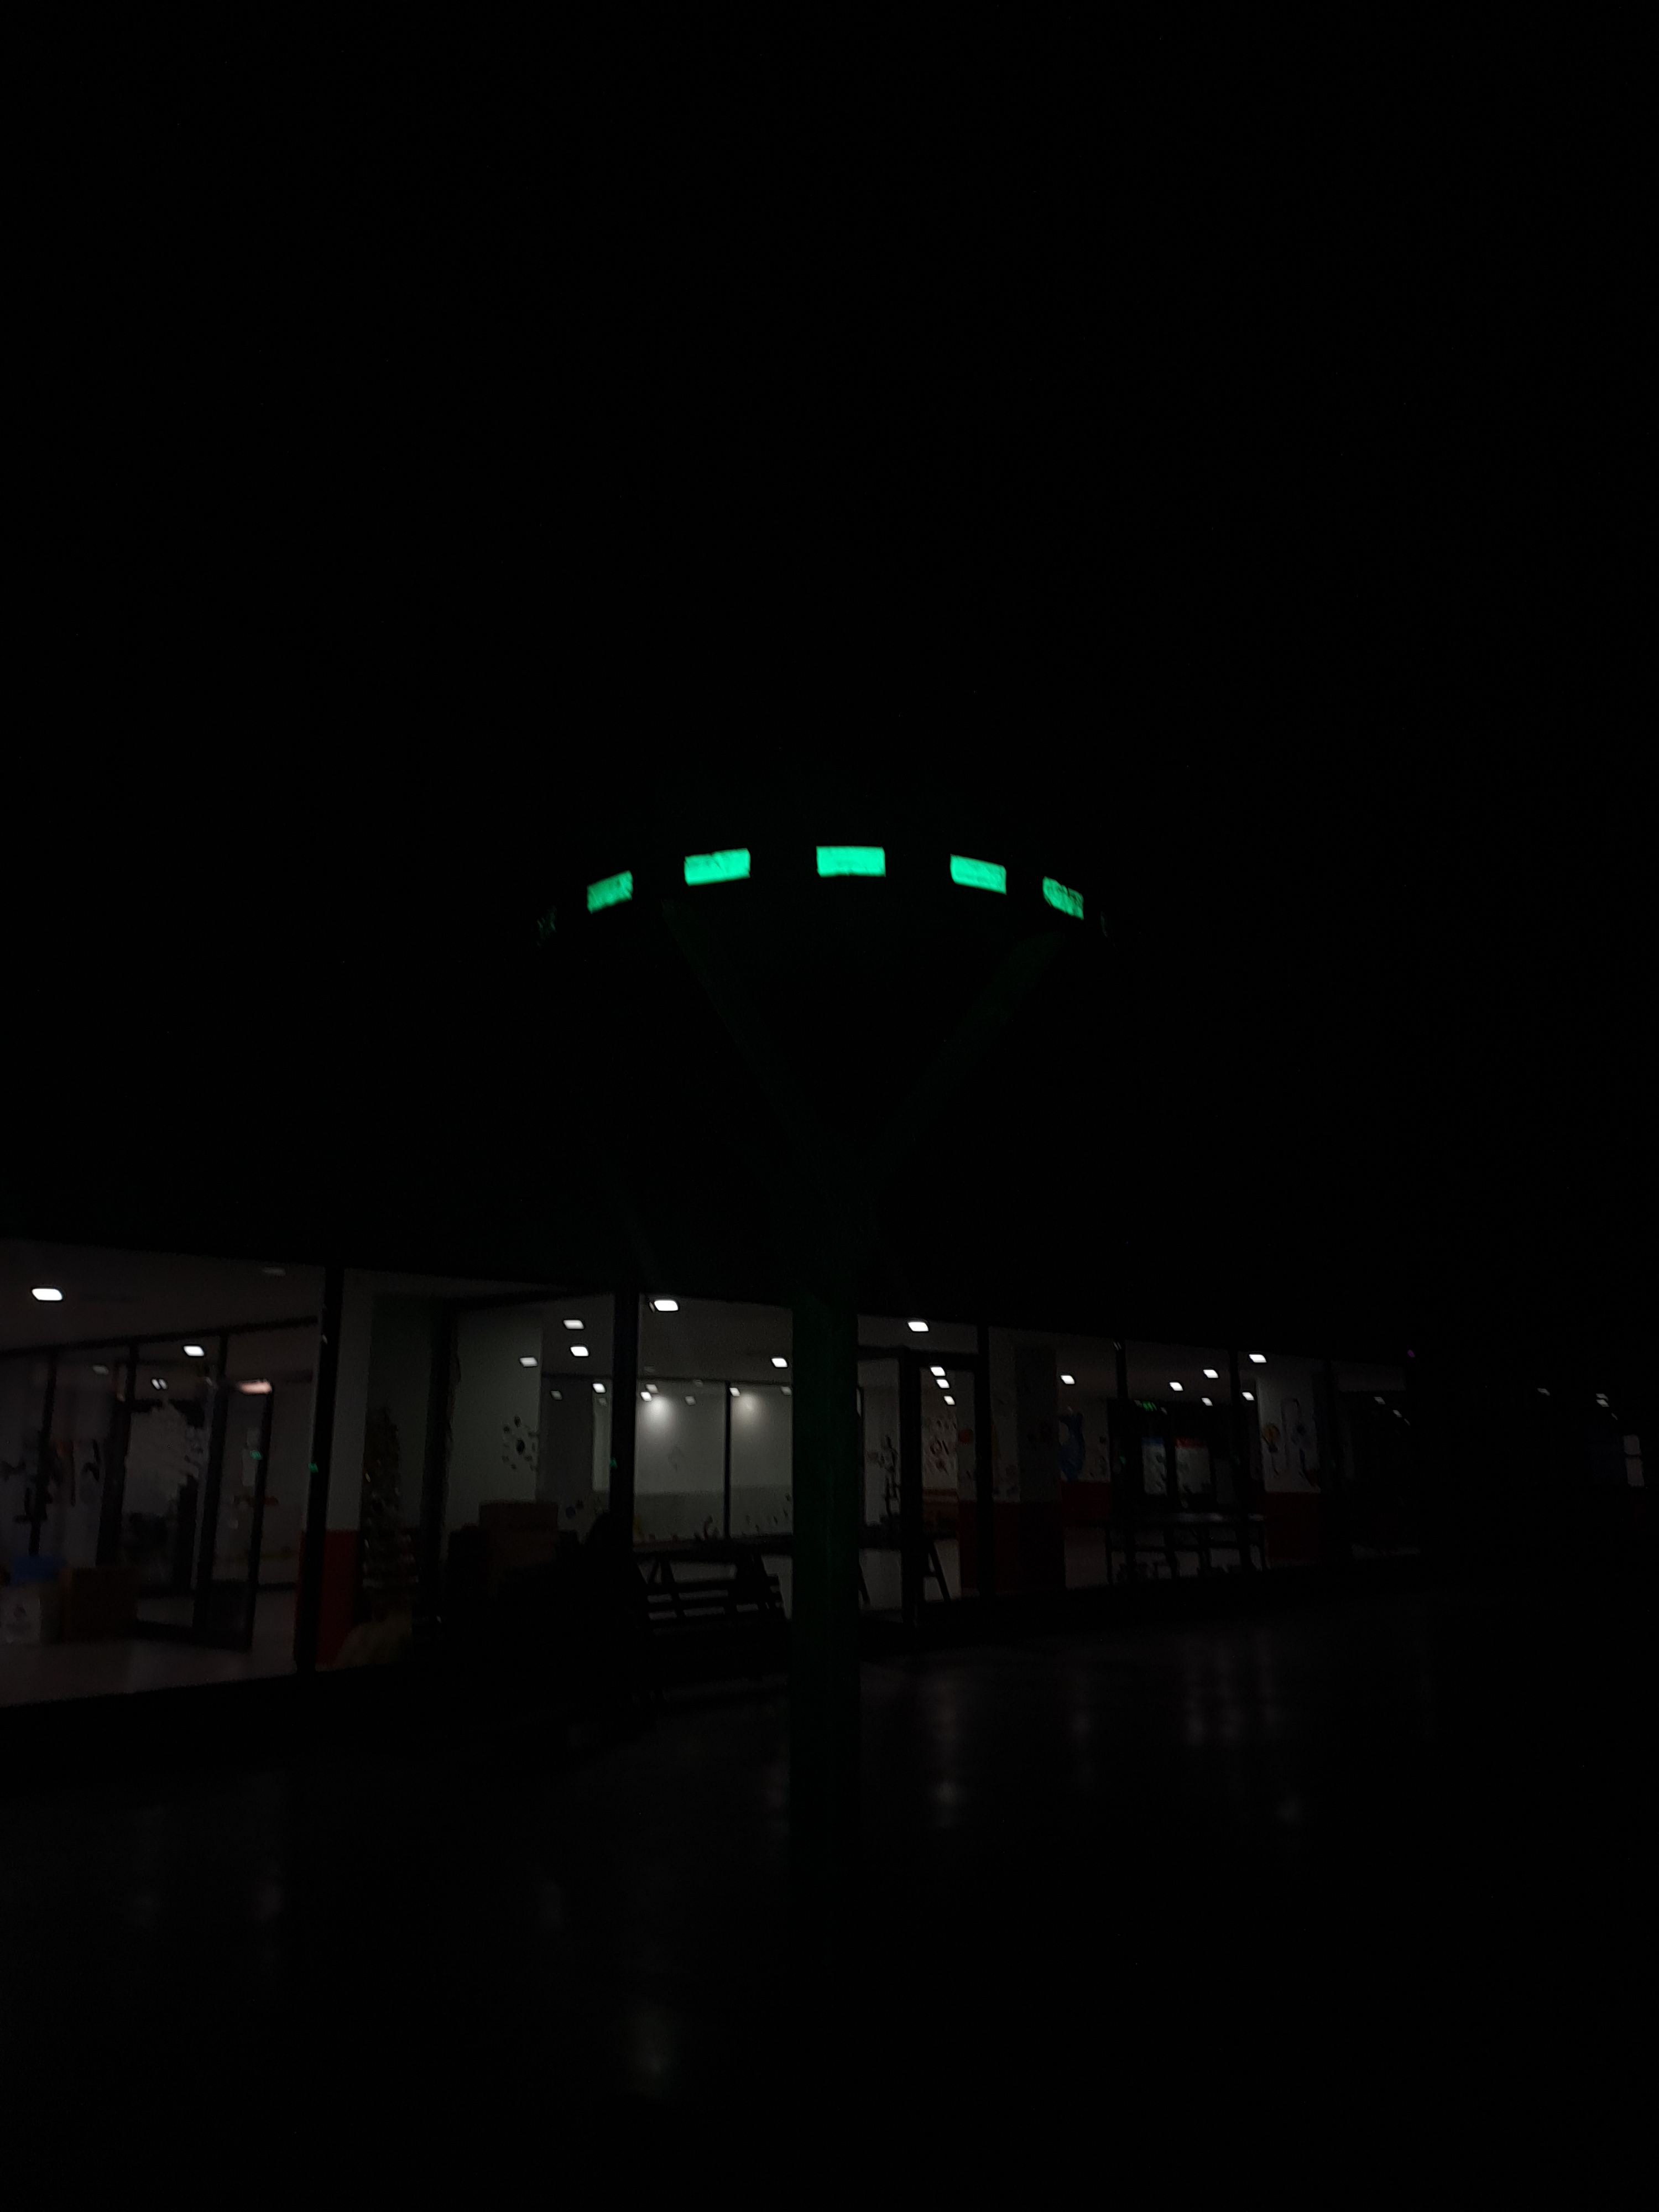hoop: (579, 841, 1089, 932)
